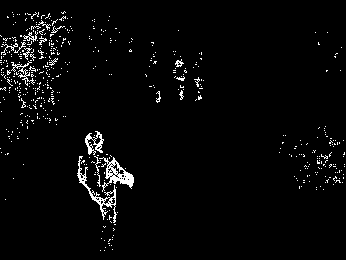person: (75, 132, 133, 250), (173, 55, 187, 101)
